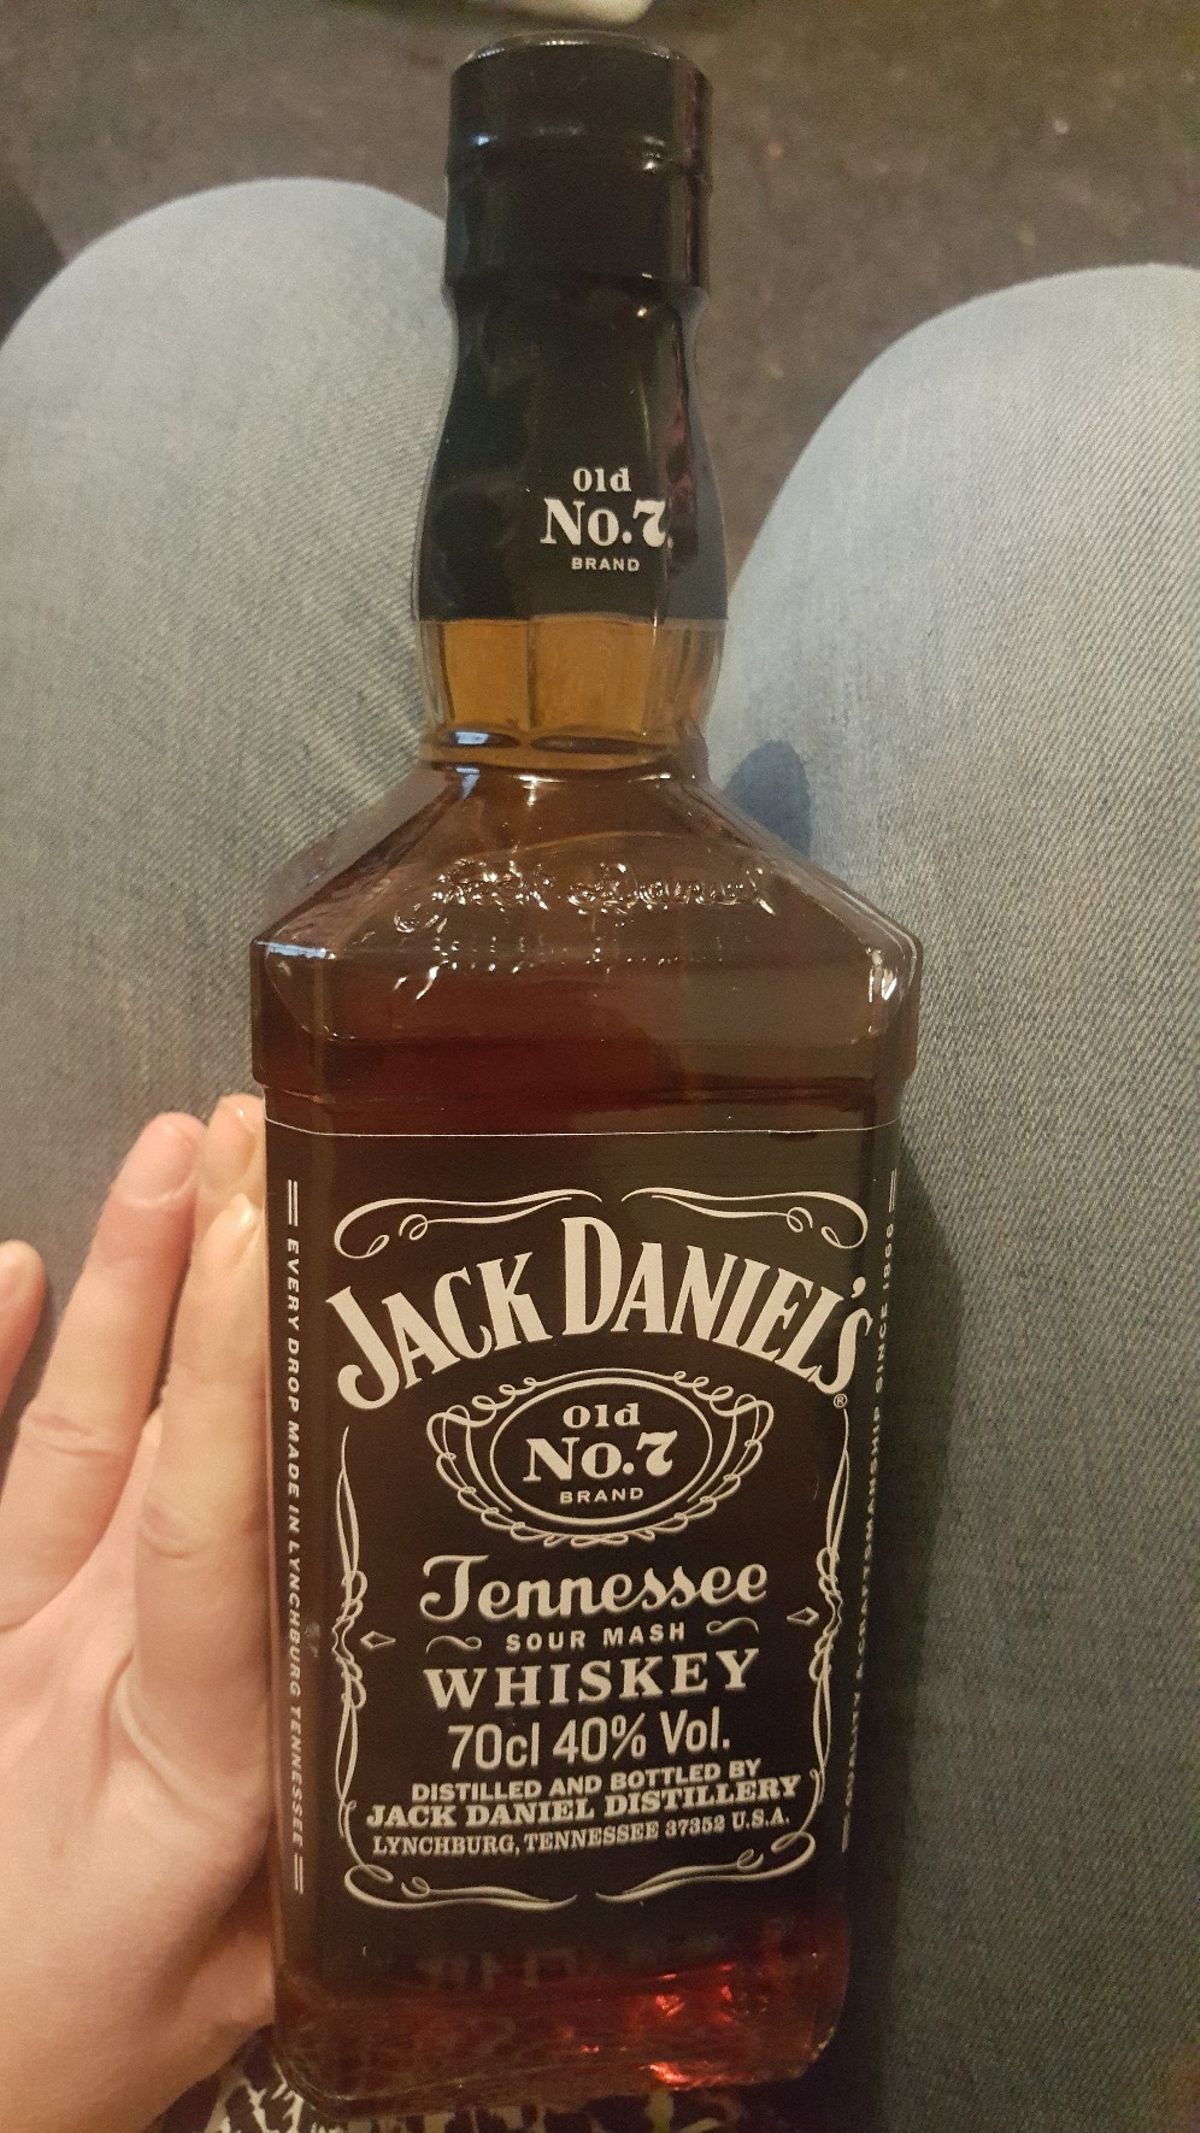Jack Daniel: (207, 7, 958, 2129)
